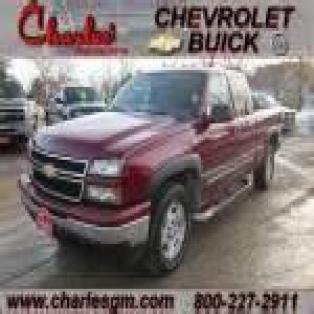Auto: (17, 65, 278, 283)
